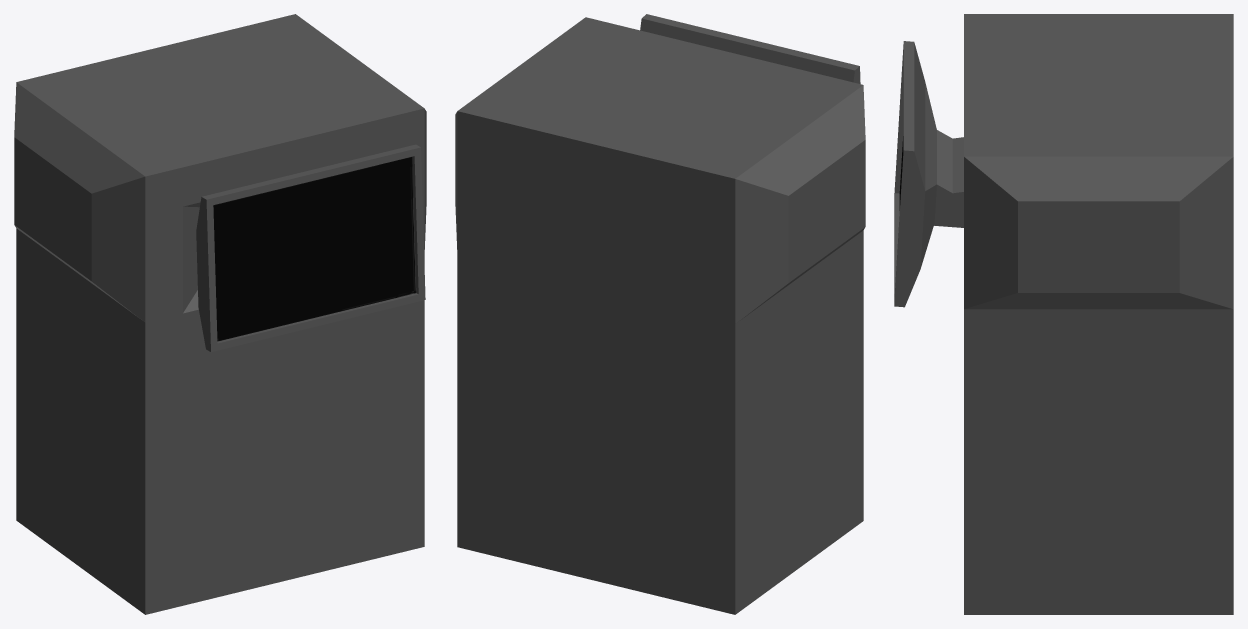
File: robot.obj
3 renders of one model, left to right at view 1: azimuth 30°, elevation 25°; view 2: azimuth 150°, elevation 25°; view 3: azimuth 270°, elevation 25°, orthographic. The views are drawn at different scales.
Parts seen in each view (by area): view 1: Cube; view 2: Cube; view 3: Cube.
Boxes of the visible parts, <box> form: Cube: <box>14,14,426,614</box>; Cube: <box>455,14,865,614</box>; Cube: <box>894,14,1233,614</box>.
Size of the model in its own units: 2.4 by 3 by 2.01.
